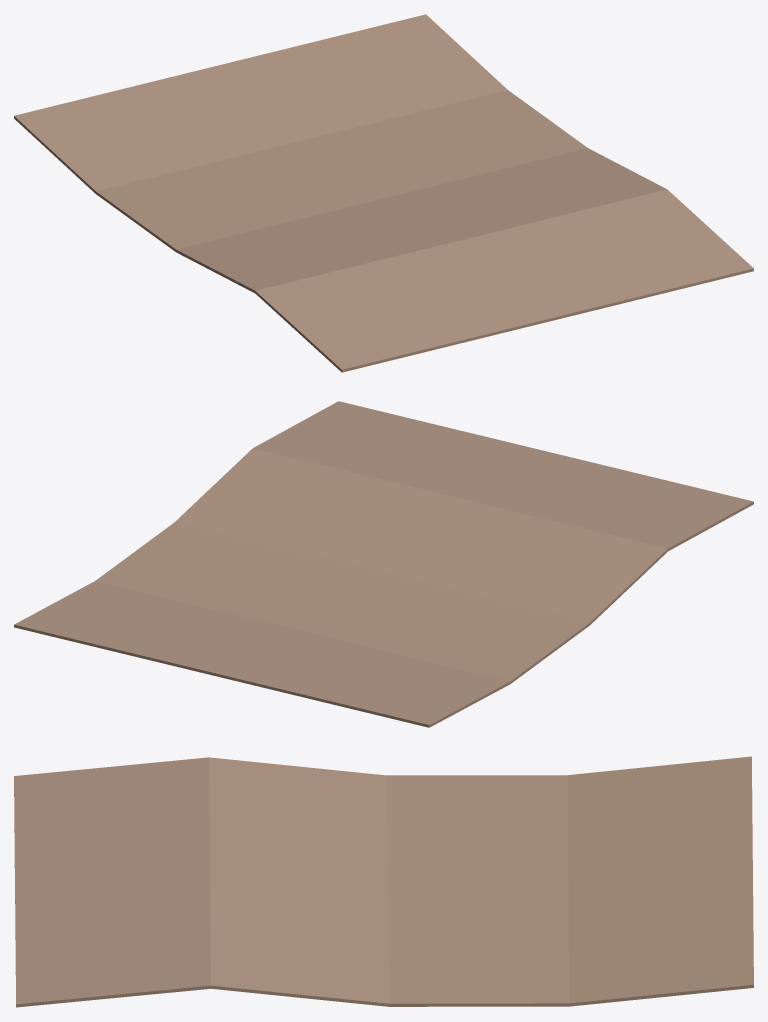
Rendered from Paper_5.fbx.
3 renders of one model, top to bottom at view 1: azimuth 30°, elevation 25°; view 2: azimuth 150°, elevation 25°; view 3: azimuth 270°, elevation 25°, orthographic. The views are drawn at different scales.
Parts seen in each view (by area): view 1: Paper_5; view 2: Paper_5; view 3: Paper_5.
Boxes of the visible parts, x1,y1,x2,y2 form: Paper_5: [14, 14, 753, 372]; Paper_5: [14, 401, 753, 727]; Paper_5: [14, 756, 753, 1007].
Bounding box in the file's own units: 36.93 × 50.33 × 1.62.
